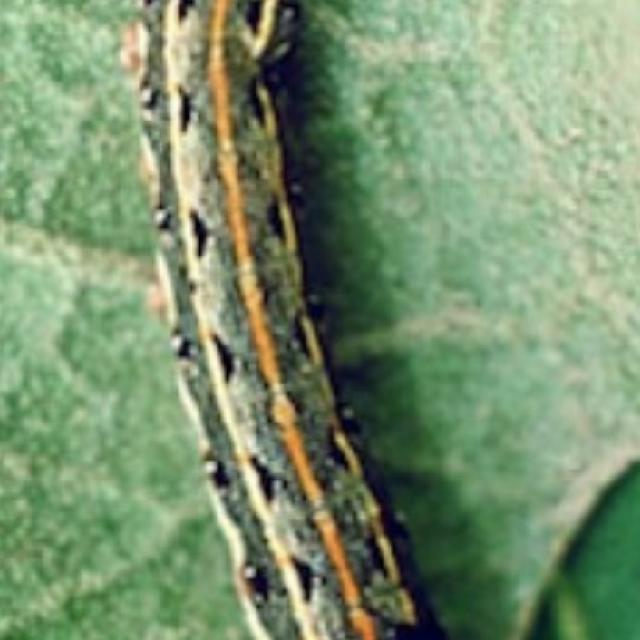armyworm: (126, 0, 446, 640)
